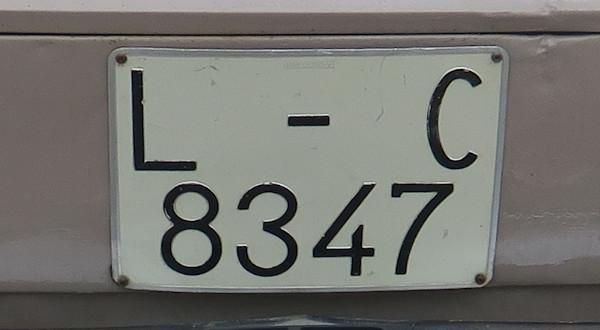license_plate: (109, 46, 506, 291)
